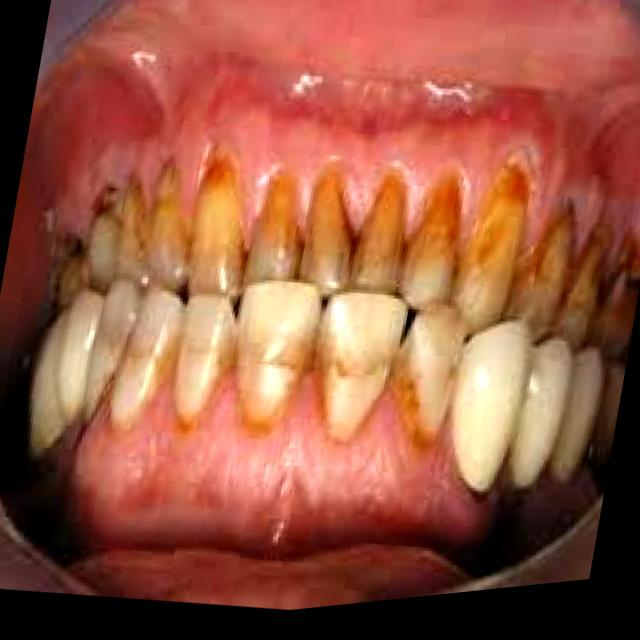tooth-discoloration: (318, 282, 404, 442), (236, 280, 318, 424), (398, 181, 458, 309), (187, 159, 241, 296), (348, 177, 403, 295), (298, 176, 349, 296), (242, 178, 298, 285), (144, 170, 189, 291)
